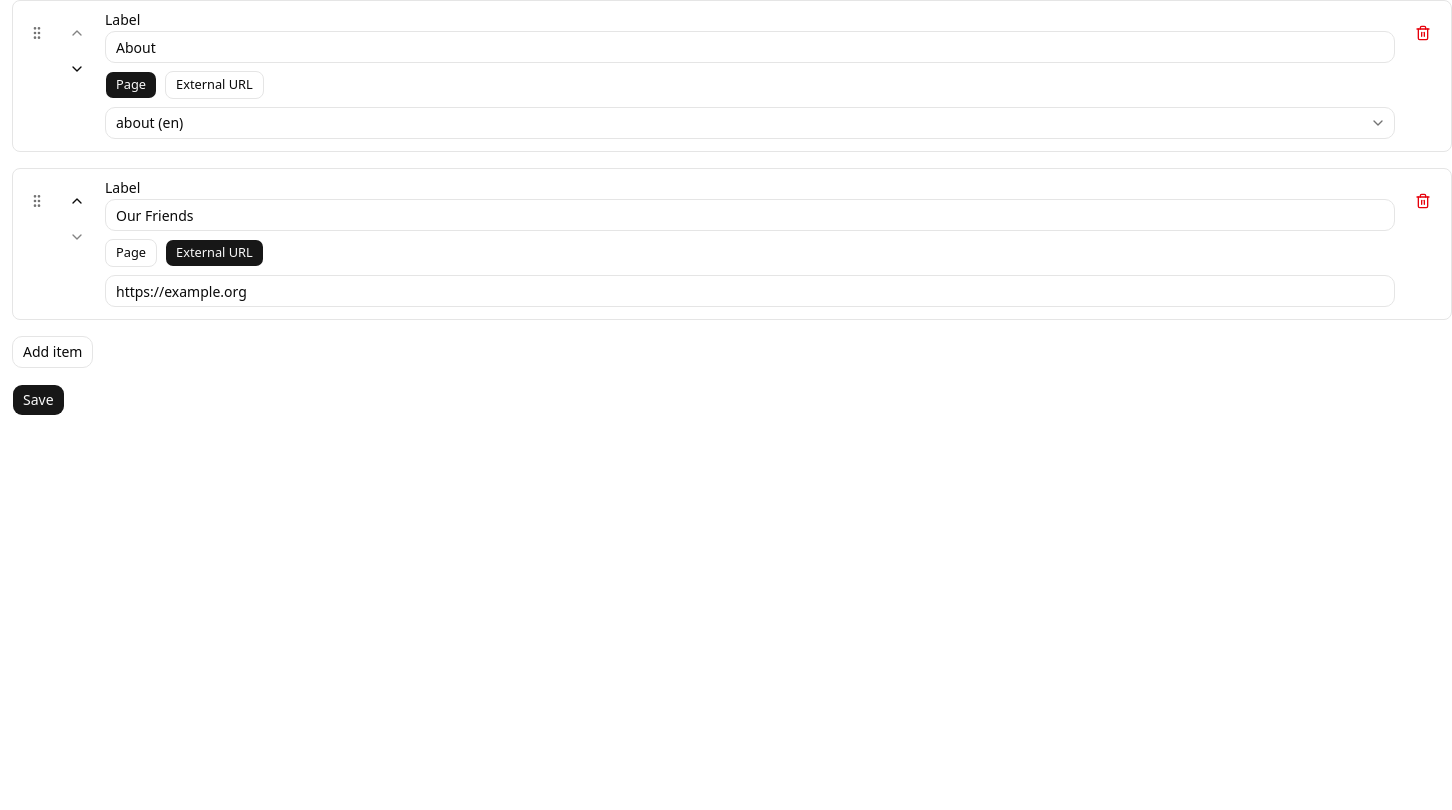
Test: NavItemListEditor › appends a new blank row defaulting to Page mode
Click the button "Add item". click: point(53, 352)
box: [12, 336, 94, 368]
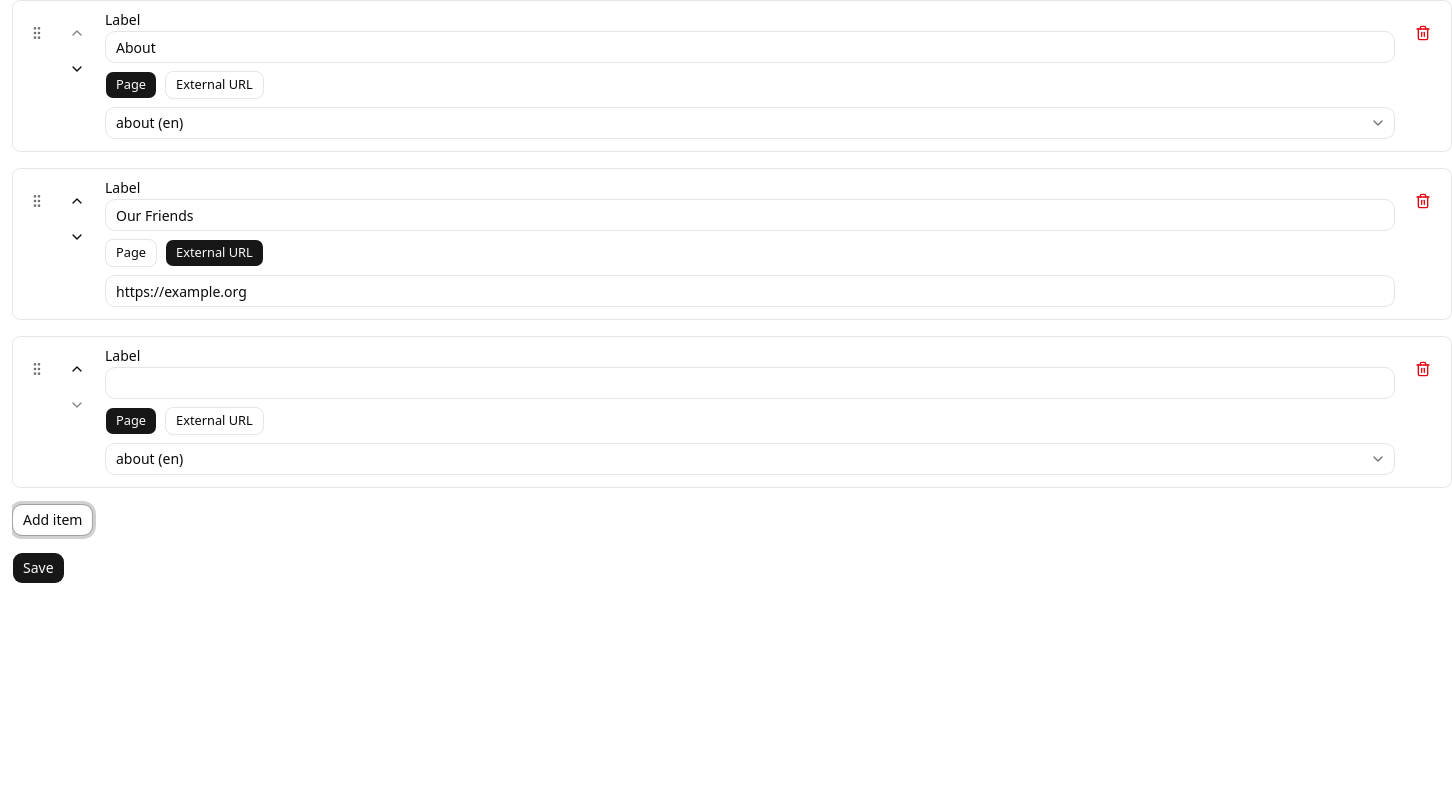
Expected: the number of fields with placeholder "https://…" is 1, [105, 275, 1395, 307]
